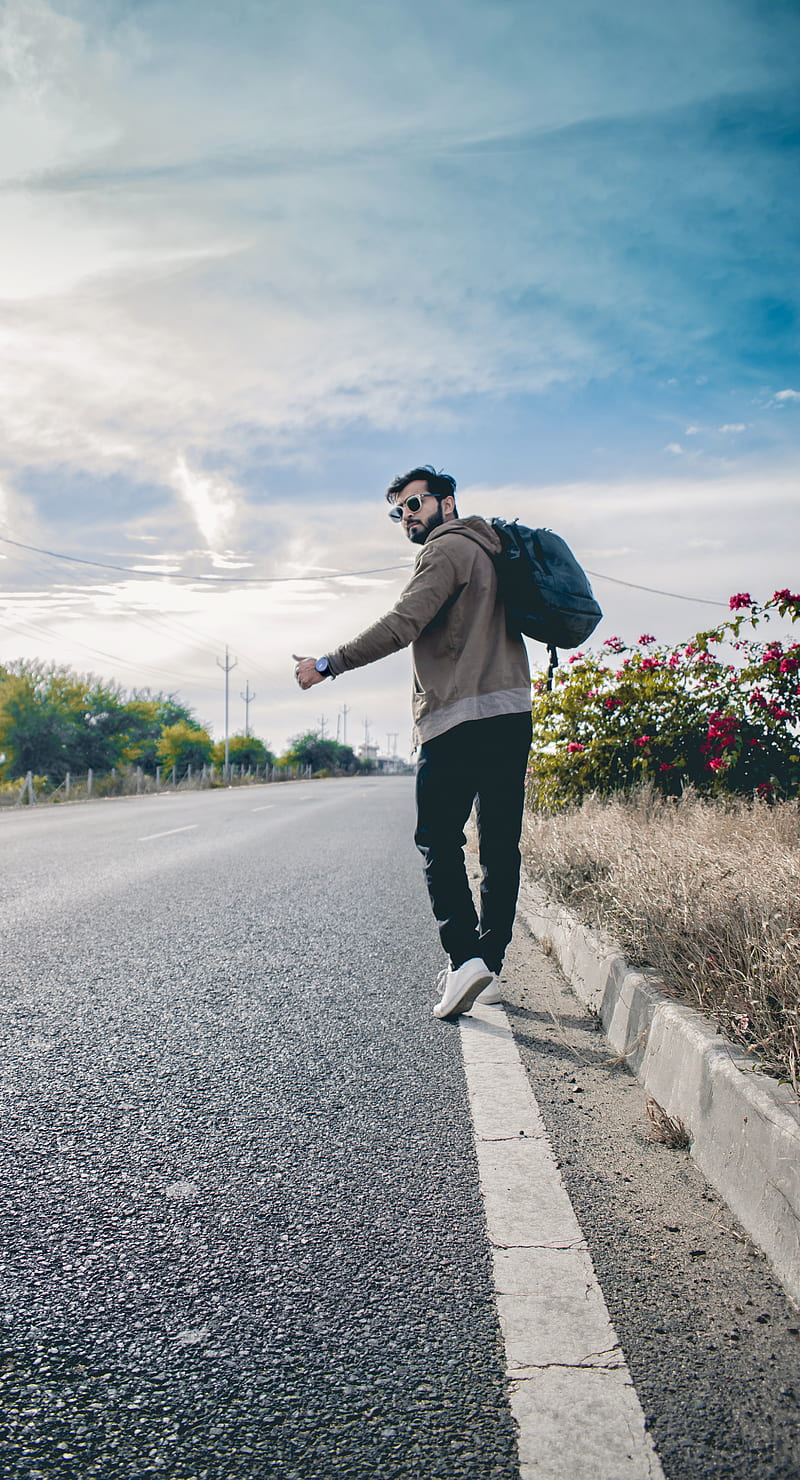Person: (292, 465, 605, 1016)
